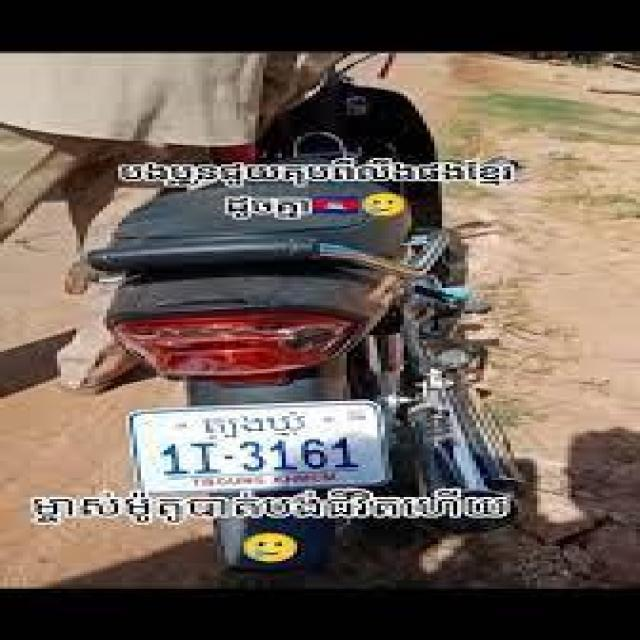Tboung_Khmum: (202, 410, 310, 438)
